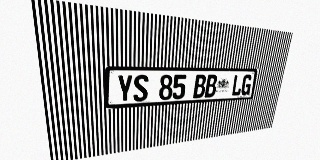5: (172, 75, 186, 99)
8: (159, 75, 173, 100)
B: (193, 75, 207, 98), (204, 75, 218, 98)
G: (240, 75, 253, 95)
L: (231, 75, 243, 96)
S: (133, 75, 148, 102)
Y: (117, 75, 133, 103)
